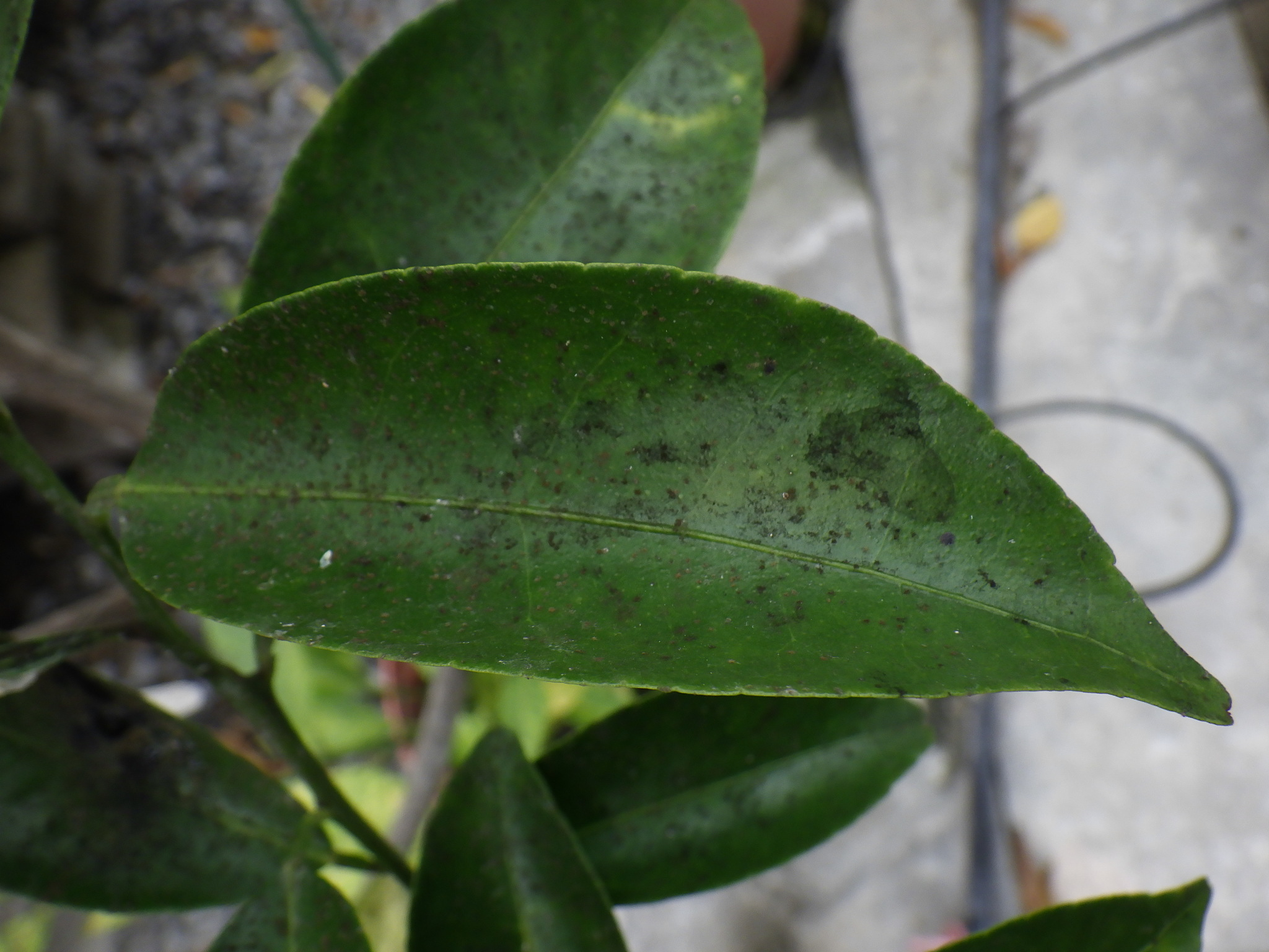Sooty_Mold: (111, 265, 1229, 723)
